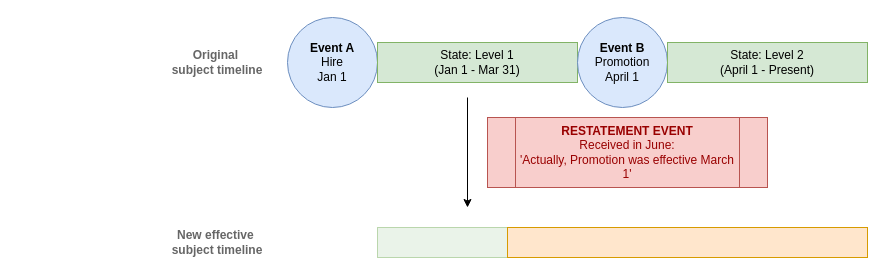
Image size: 885x275. Some labels were removed from this diagram. The centre of each missing label's shape, as x and y in pixels:
"State: Level 1 (Jan 1 - Feb 28)" goes at [442,242].
"State: Level 2 (CORRECTED) March 1 - Present" goes at [687,242].
